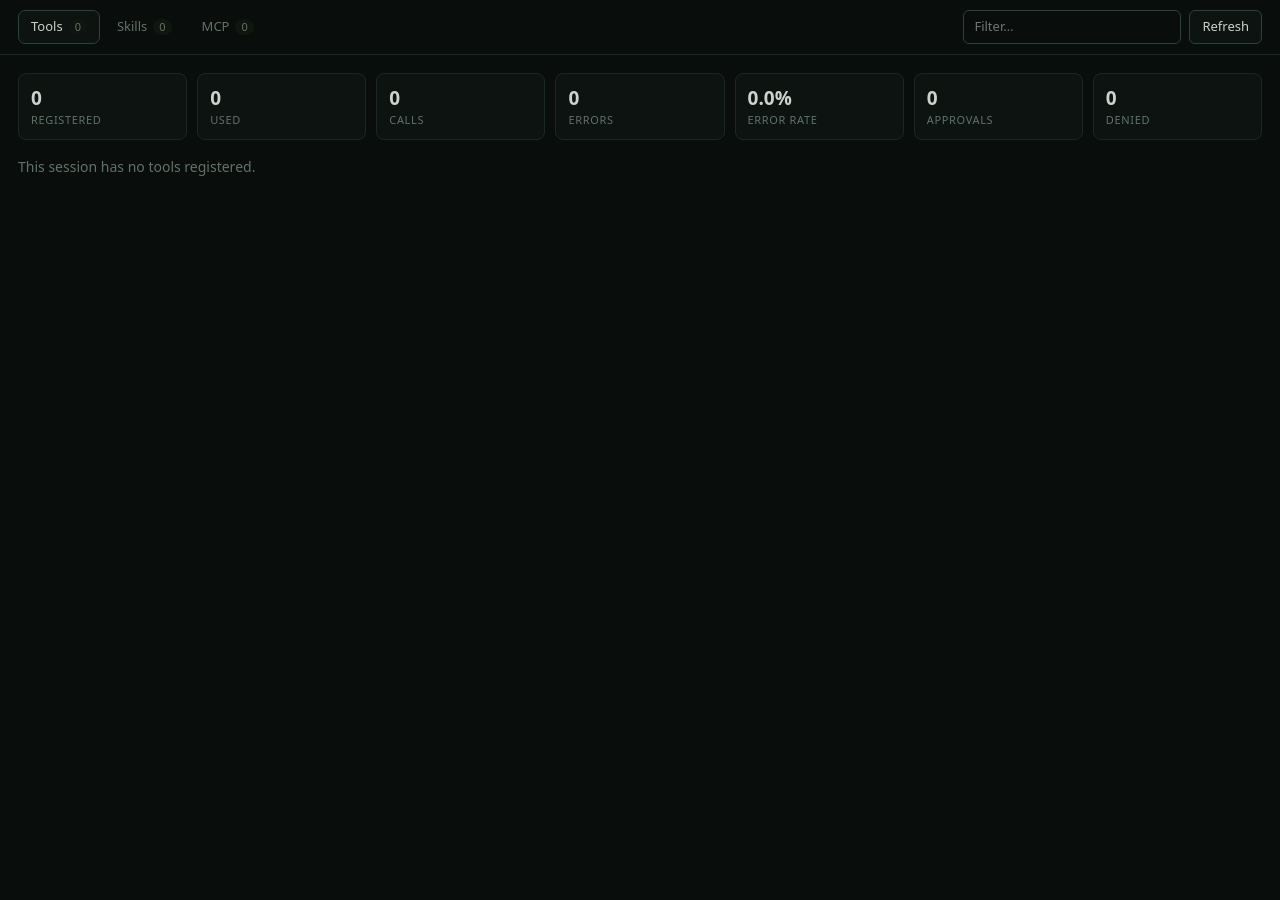
Test: ToolsPage MCP tab › switches to a URL field for http transport
This screenshot has width=1280, height=900.
Click the button "MCP 0".
click(228, 27)  # box left=189, top=10, right=267, bottom=44
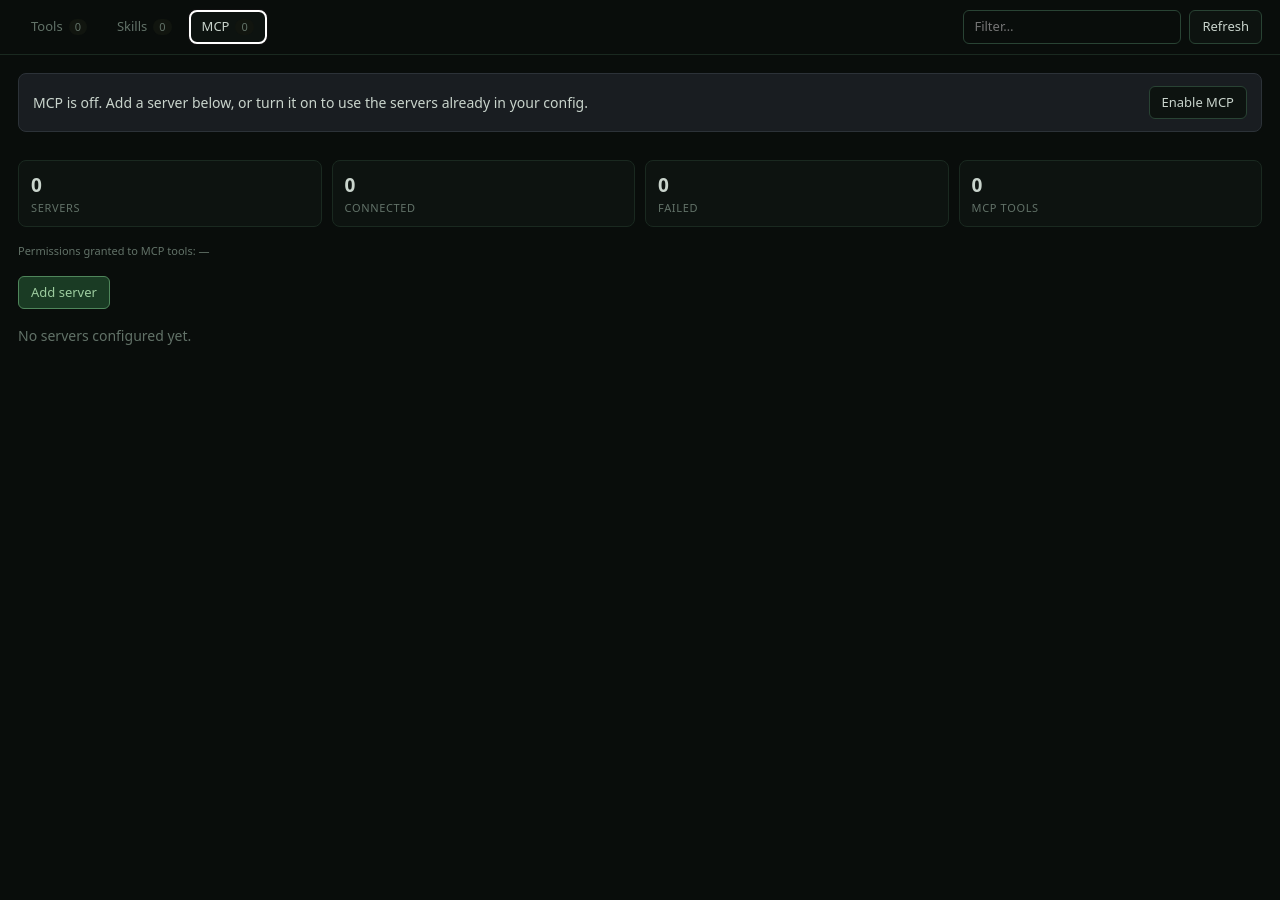
Click the button "Add server".
click(64, 292)  # box left=18, top=276, right=110, bottom=309
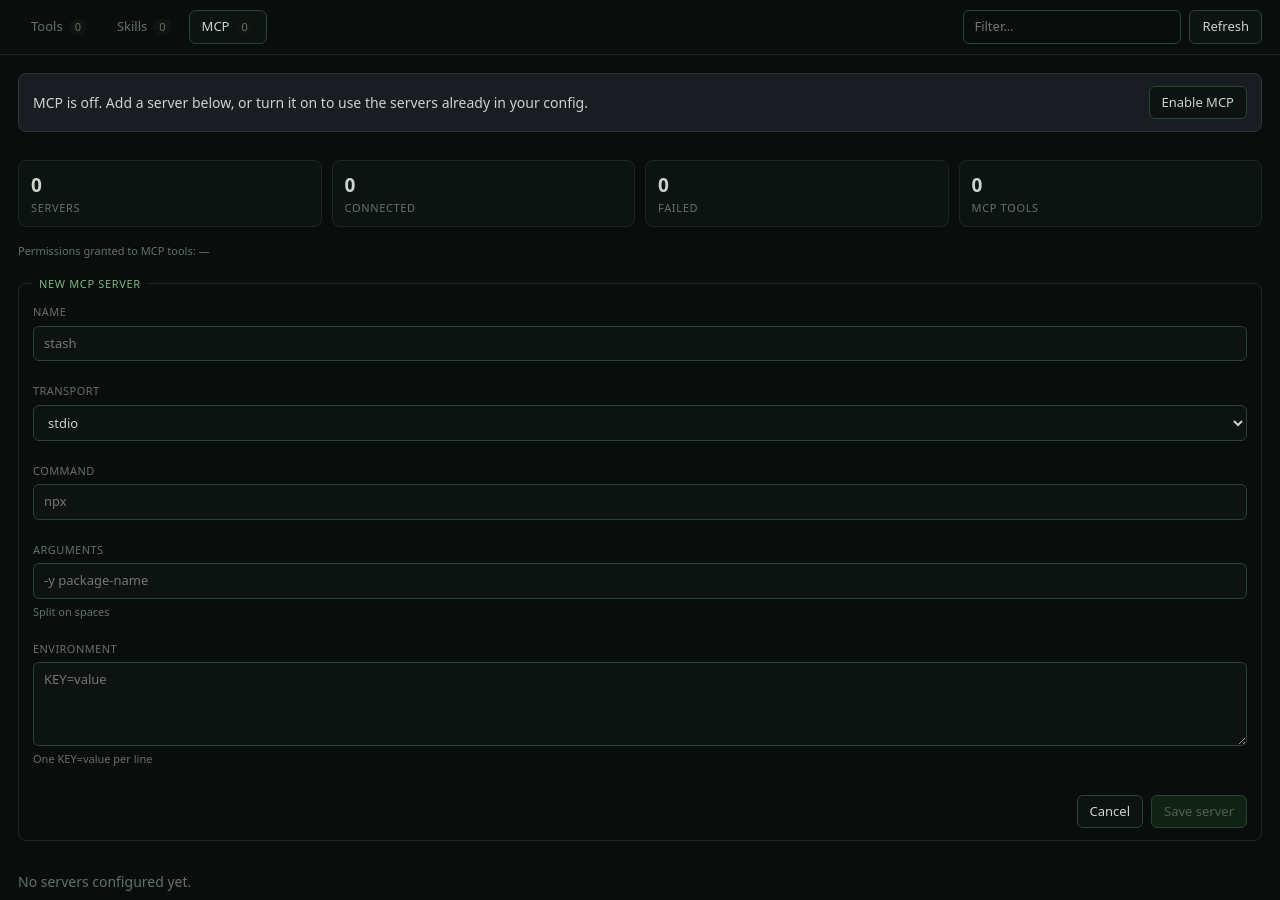
Select "http" in the dropdown named "Transport" at (640, 422), box left=33, top=404, right=1247, bottom=440
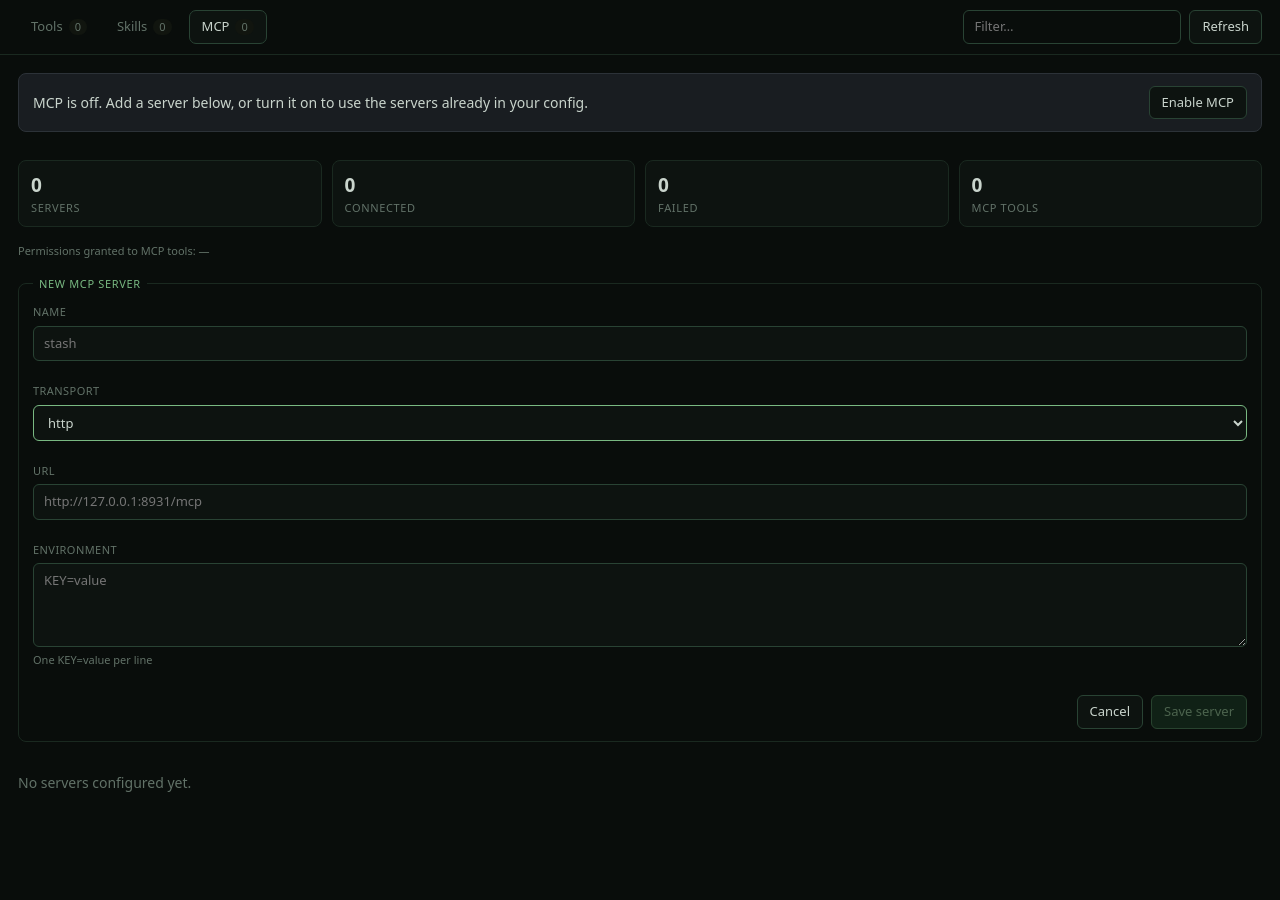
Expected: the field named "URL" is shown, left=33, top=484, right=1247, bottom=520
Expected: the label labelled "Command" is gone
